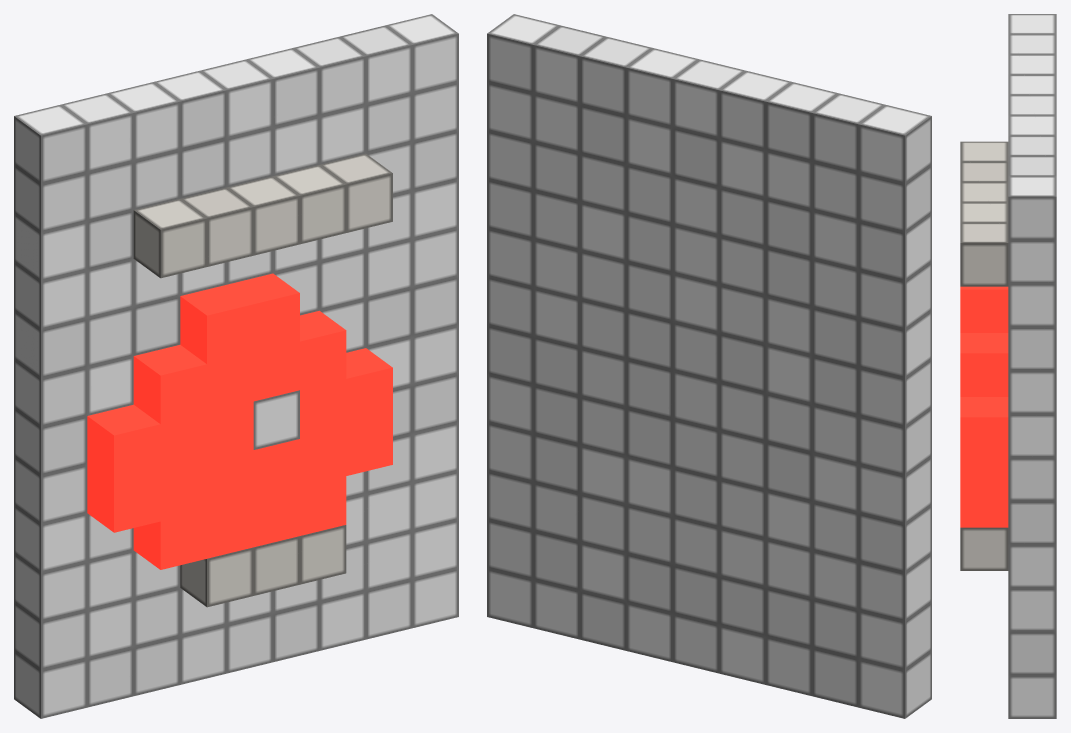
Rendered from poster_bc.glb.
3 renders of one model, left to right at view 1: azimuth 30°, elevation 25°; view 2: azimuth 150°, elevation 25°; view 3: azimuth 270°, elevation 25°, orthographic. The views are drawn at different scales.
Visible parts, largest first — view 1: poster_bc; view 2: poster_bc; view 3: poster_bc.
Boxes of the visible parts, box(x1,y1,x2,y2) form: poster_bc: box(14, 14, 458, 718); poster_bc: box(487, 14, 931, 718); poster_bc: box(960, 14, 1056, 718).
Bounding box in the file's own units: 0.45 × 0.6 × 0.1.
Materials: 3 (2 with a texture image).
